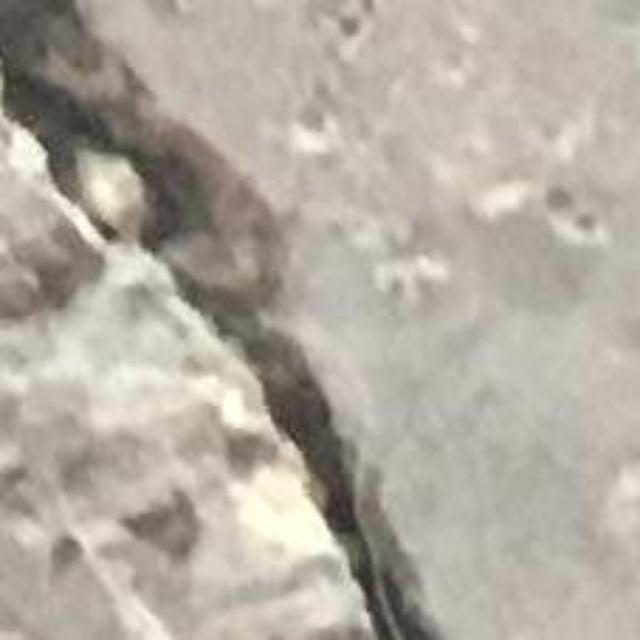crack: (0, 0, 434, 639)
